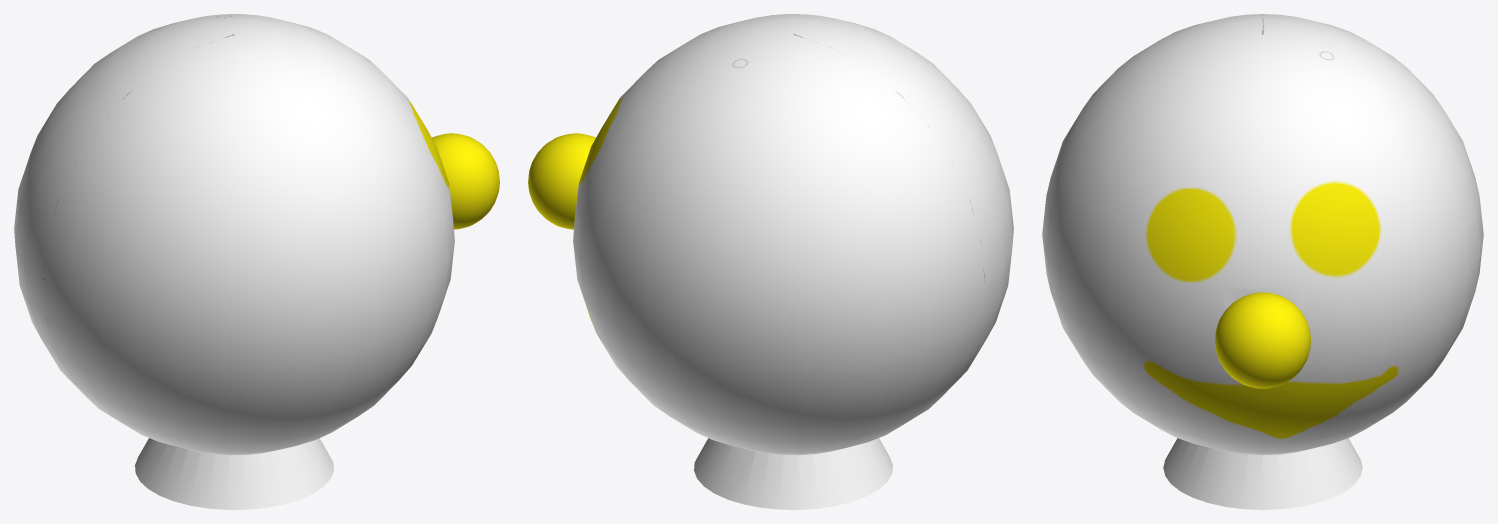
The model's file is nose.fbx.
3 renders of one model, left to right at view 1: azimuth 30°, elevation 25°; view 2: azimuth 150°, elevation 25°; view 3: azimuth 270°, elevation 25°, orthographic.
Parts seen in each view (by area): view 1: Nose; view 2: Nose; view 3: Nose.
Boxes of the visible parts, x1,y1,x2,y2 form: Nose: (14, 14, 499, 509); Nose: (528, 14, 1013, 509); Nose: (1042, 14, 1483, 509).
Bounding box in the file's own units: 235 × 217 × 200.
